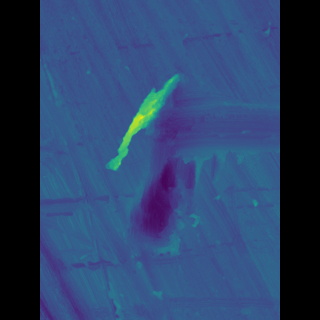Loch: (125, 67, 202, 270)
